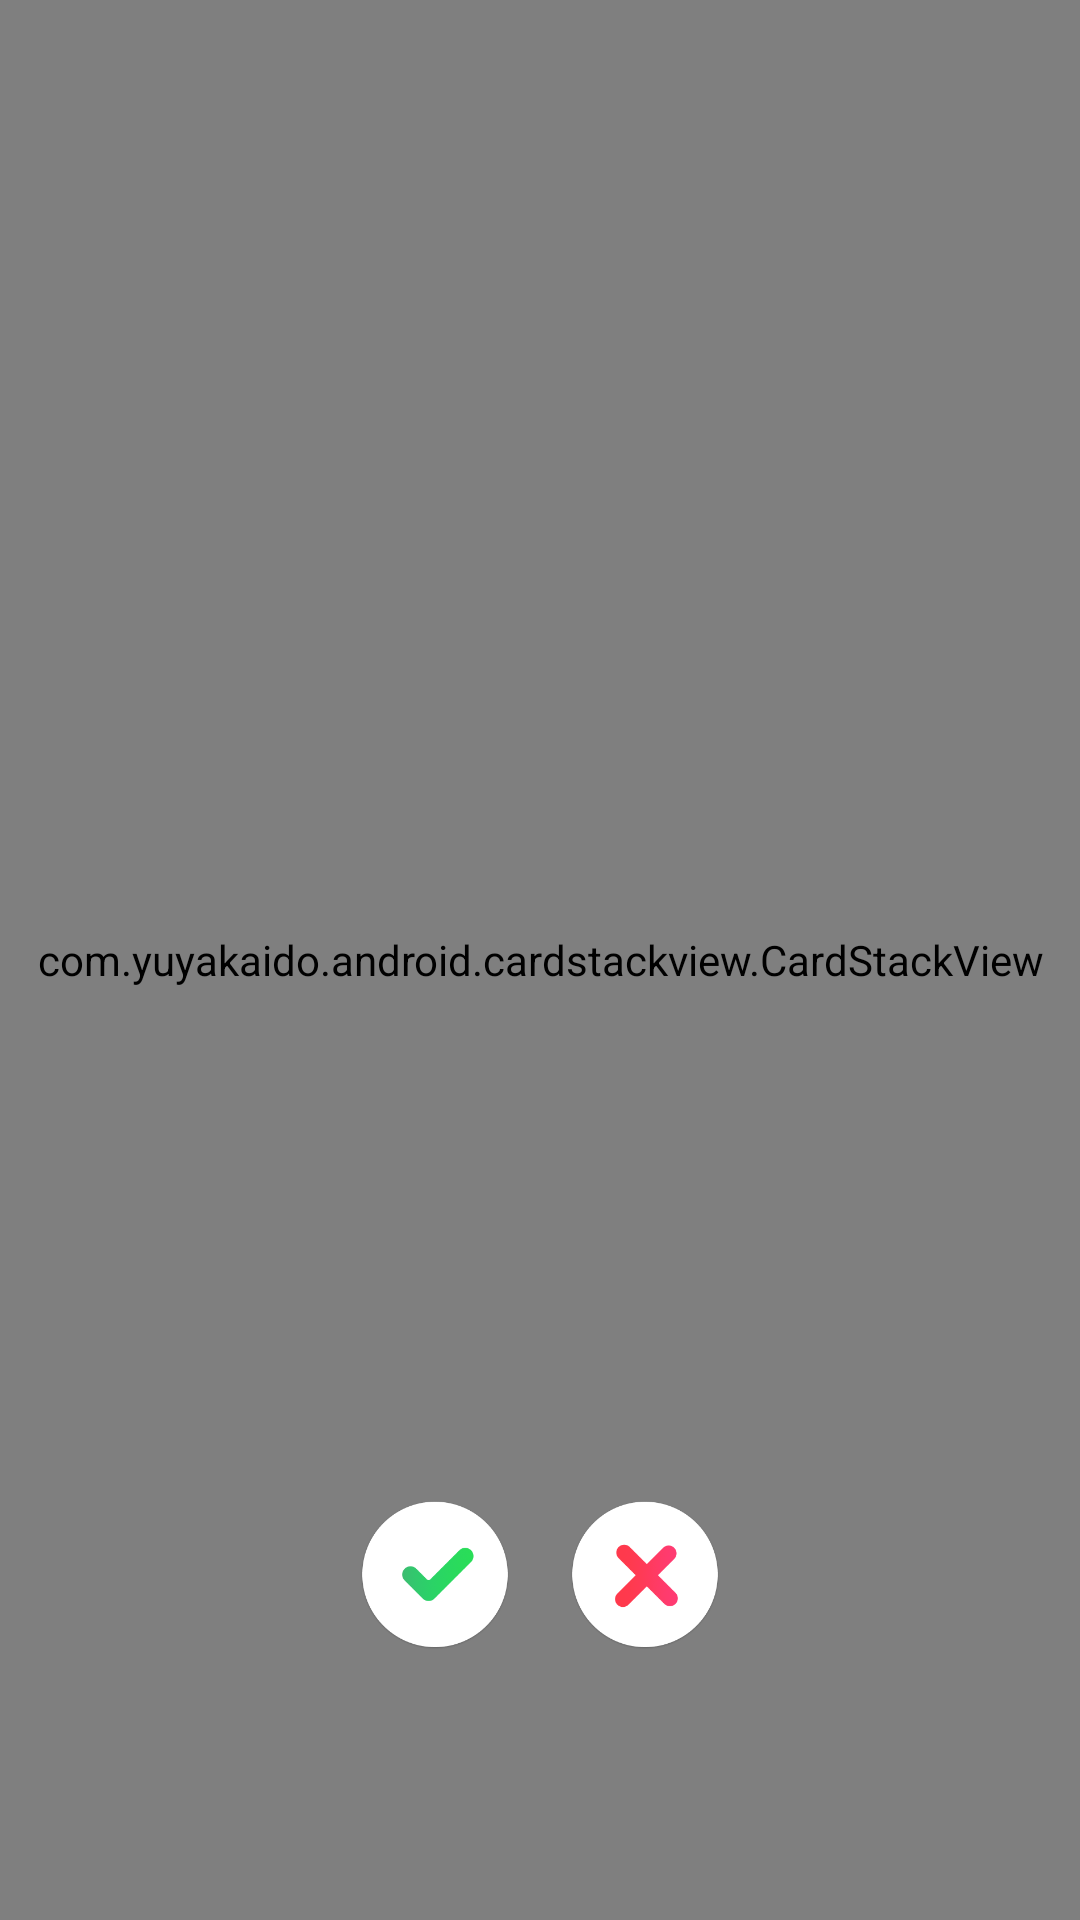

Icons on this 1080x1920 Android screen, each with the point to tap as [x,y]:
decline: [645,1574]
